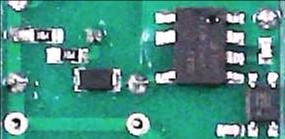chip-capacitor: (256, 34, 274, 66), (216, 122, 243, 137)
chip-resistor: (11, 26, 66, 44), (46, 45, 88, 64)
diode: (70, 65, 122, 95)
ic: (151, 2, 245, 87), (245, 70, 281, 137)
